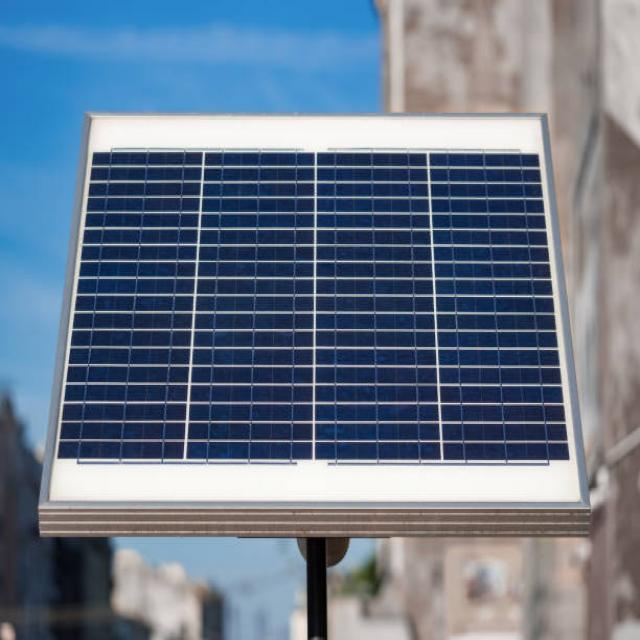no faulty: (48, 120, 587, 514)
